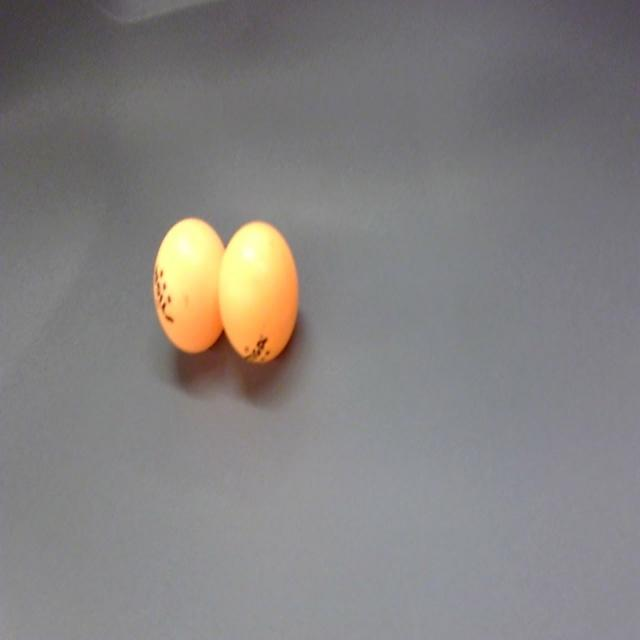ball: (218, 218, 301, 368), (152, 212, 231, 354)
